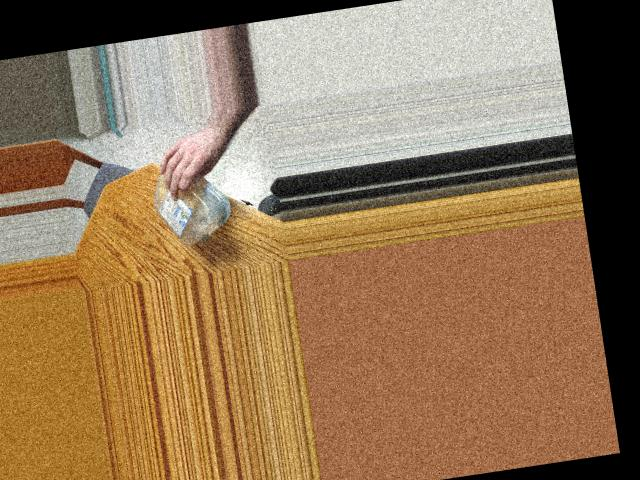cheese: (145, 146, 230, 251)
